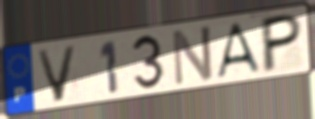1: (98, 38, 121, 95)
3: (130, 31, 167, 94)
A: (214, 20, 265, 81)
N: (171, 23, 215, 89)
P: (260, 11, 305, 76)
V: (34, 43, 80, 104)
